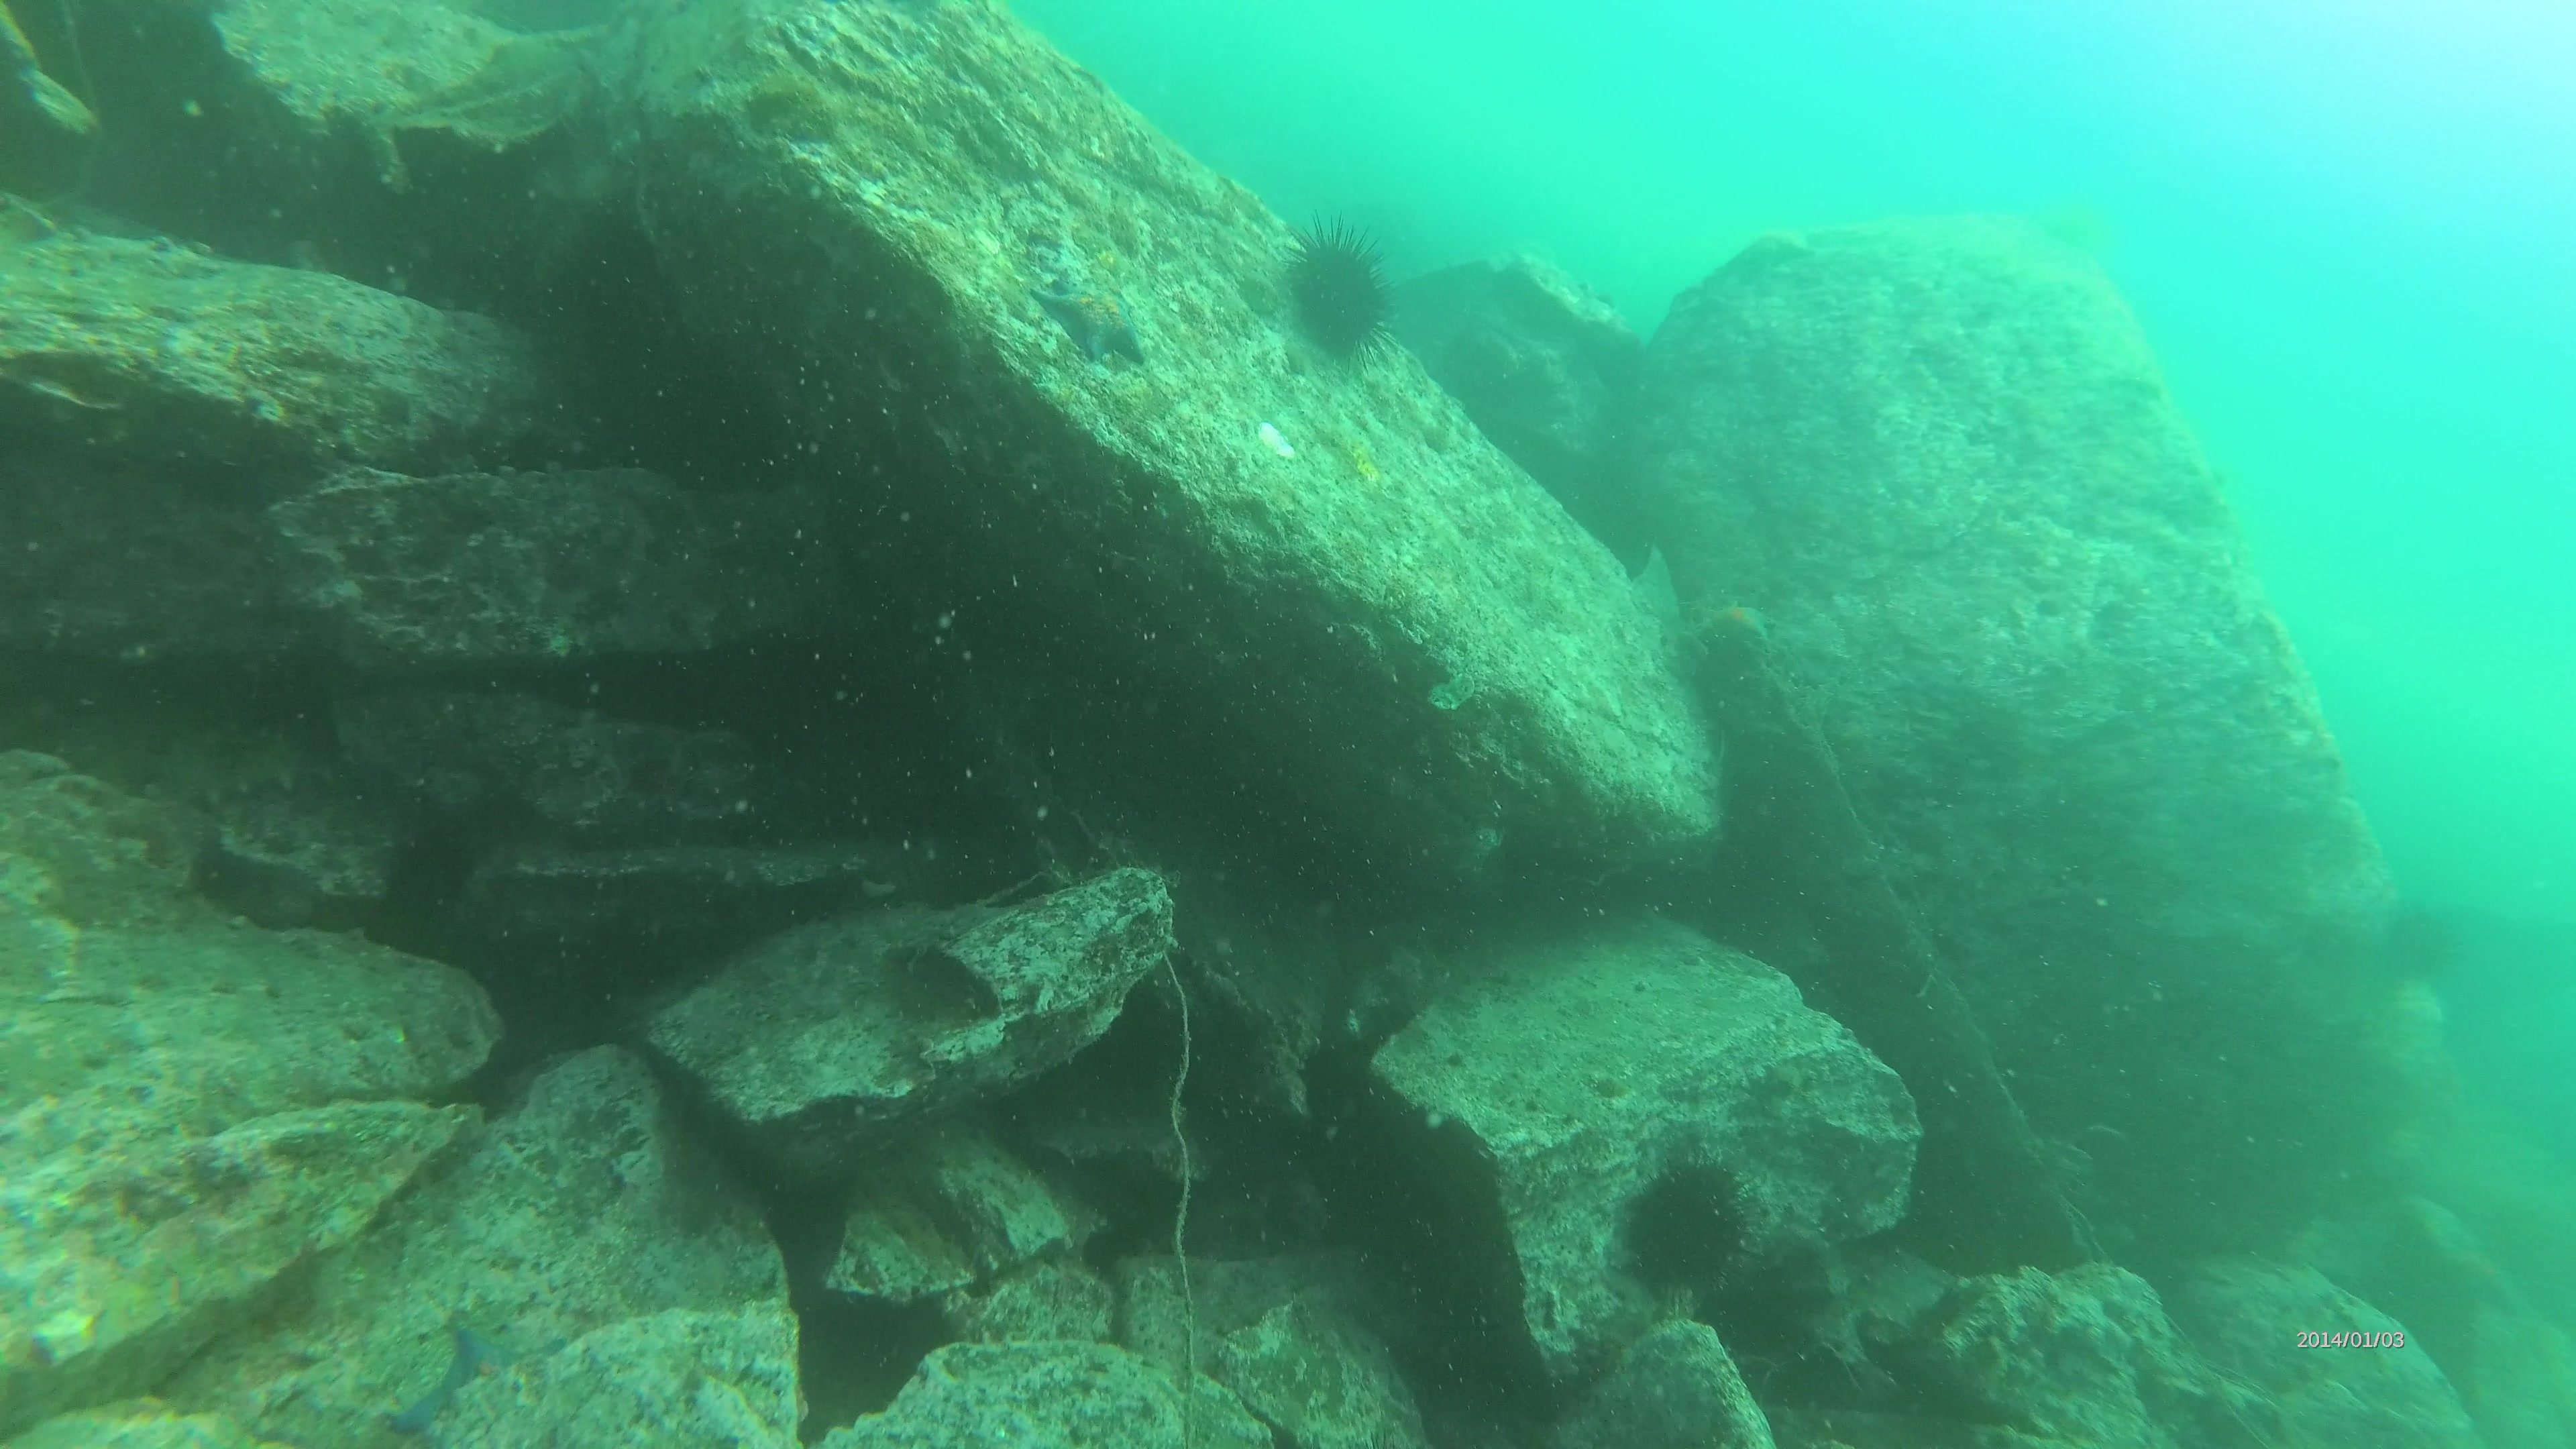echinus: (1614, 1150, 1753, 1299), (1274, 212, 1399, 372)
starfish: (402, 1323, 568, 1449), (1031, 262, 1143, 373), (1697, 591, 1782, 658)
